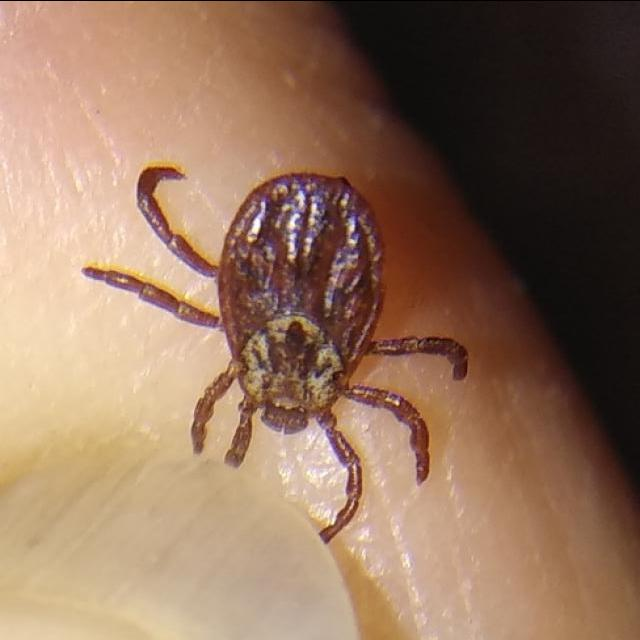Dermacentor Reticulatus-F: (80, 164, 467, 540)
